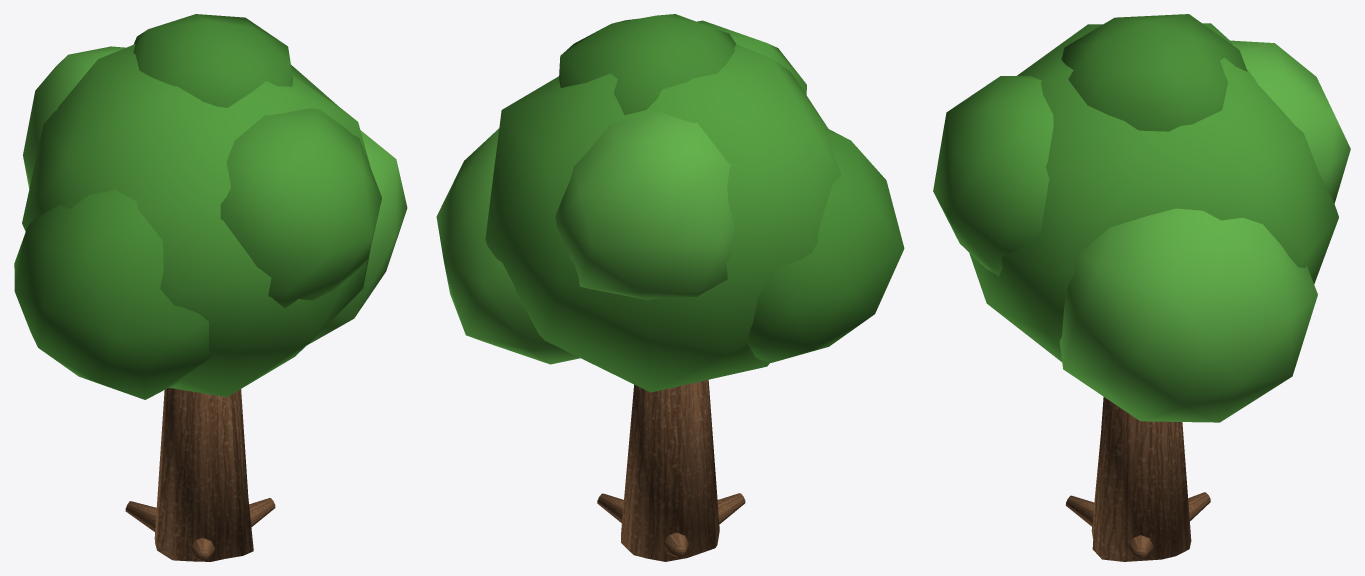
Rendered from oak.glb.
3 views of the same model, side by side, from view 1: azimuth 30°, elevation 25°; view 2: azimuth 150°, elevation 25°; view 3: azimuth 270°, elevation 25° (orthographic).
Visible parts, largest first — view 1: leaves, leaves.002, leaves.003, trunk, leaves.005, leaves.001, leaves.004, root.001; view 2: leaves, leaves.004, leaves.002, trunk, leaves.001, leaves.005, leaves.003; view 3: leaves, leaves.001, leaves.003, leaves.005, trunk, leaves.004, root.002.
Boxes of the visible parts, bbox=[...] form: leaves: bbox=[22, 44, 370, 396]; leaves.002: bbox=[14, 189, 211, 399]; leaves.003: bbox=[220, 108, 381, 308]; trunk: bbox=[154, 388, 253, 561]; leaves.005: bbox=[133, 14, 292, 107]; leaves.001: bbox=[307, 130, 407, 345]; leaves.004: bbox=[23, 46, 125, 188]; root.001: bbox=[125, 501, 156, 531]; leaves: bbox=[485, 44, 841, 392]; leaves.004: bbox=[555, 110, 734, 299]; leaves.002: bbox=[747, 128, 904, 362]; trunk: bbox=[621, 379, 719, 561]; leaves.001: bbox=[436, 128, 580, 364]; leaves.005: bbox=[559, 14, 735, 114]; leaves.003: bbox=[697, 20, 806, 94]; leaves: bbox=[969, 23, 1338, 361]; leaves.001: bbox=[1059, 208, 1317, 422]; leaves.003: bbox=[933, 76, 1053, 276]; leaves.005: bbox=[1061, 14, 1247, 131]; trunk: bbox=[1091, 397, 1191, 561]; leaves.004: bbox=[1230, 40, 1350, 203]; root.002: bbox=[1065, 495, 1094, 526].
Bounding box in the file's own units: 3.91 × 4.98 × 3.48.
Materials: 4 (1 with a texture image).
